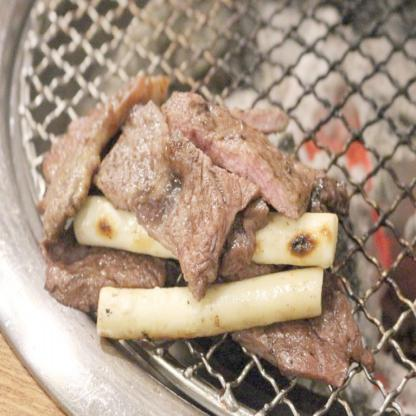Carne: (160, 92, 322, 225), (32, 89, 145, 201), (153, 160, 234, 275), (98, 112, 180, 214), (270, 330, 378, 384), (50, 254, 150, 294)
